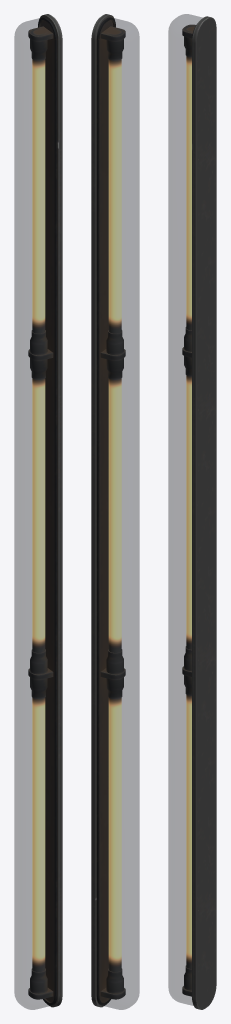
File: SM_Lamp05.gltf
3 renders of one model, left to right at view 1: azimuth 30°, elevation 25°; view 2: azimuth 150°, elevation 25°; view 3: azimuth 330°, elevation 25°, orthographic.
Visible parts, largest first — view 1: SM_Lamp05; view 2: SM_Lamp05; view 3: SM_Lamp05.
Boxes of the visible parts, box(x1,y1,x2,y2) form: SM_Lamp05: box(14, 14, 62, 1009); SM_Lamp05: box(91, 14, 139, 1009); SM_Lamp05: box(168, 14, 216, 1009).
Bounding box in the file's own units: 0.1034 × 2.81 × 0.1045.
Materials: 2 (1 with a texture image).
